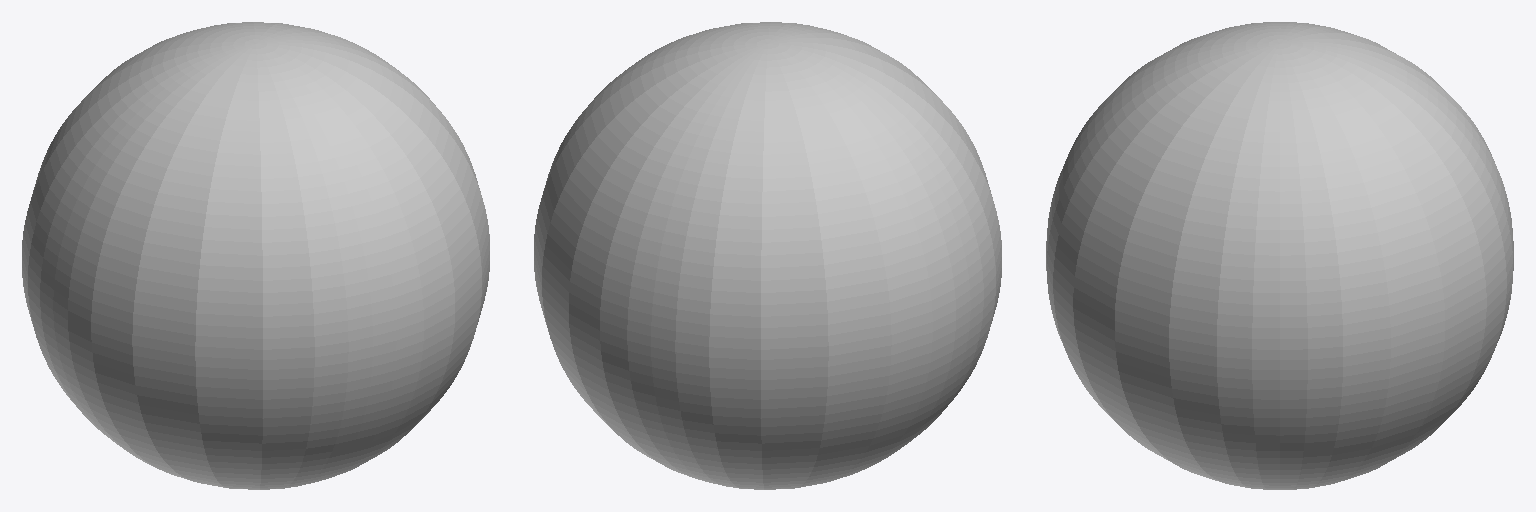
Rendered from sol.obj.
3 renders of one model, left to right at view 1: azimuth 30°, elevation 25°; view 2: azimuth 150°, elevation 25°; view 3: azimuth 270°, elevation 25°, orthographic.
Parts seen in each view (by area): view 1: SurfSphere; view 2: SurfSphere; view 3: SurfSphere.
Boxes of the visible parts, x1=… form: SurfSphere: x1=22, y1=22, x2=489, y2=489; SurfSphere: x1=534, y1=22, x2=1001, y2=489; SurfSphere: x1=1046, y1=22, x2=1513, y2=489.
Bounding box in the file's own units: 2 × 2 × 2.